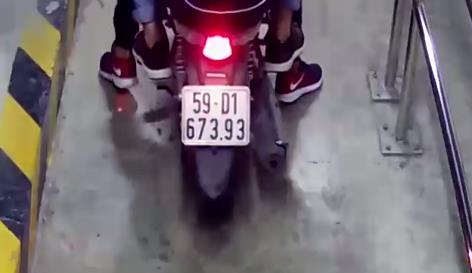lisence: (180, 83, 251, 147)
